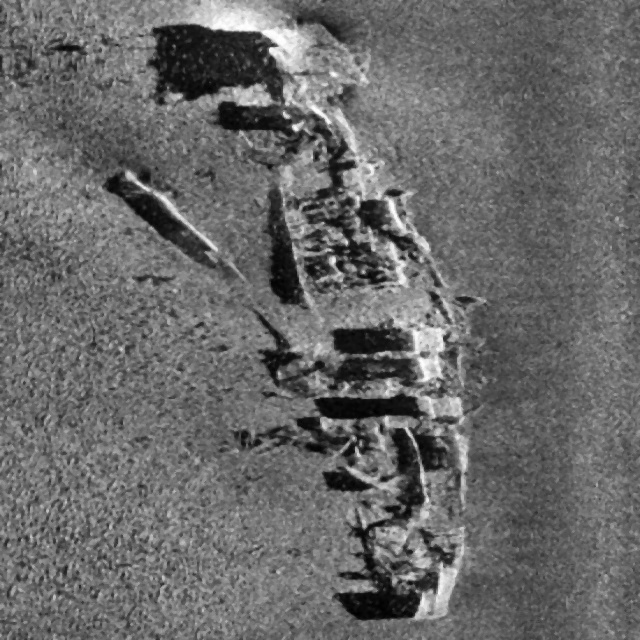Ship: (106, 17, 504, 626)
